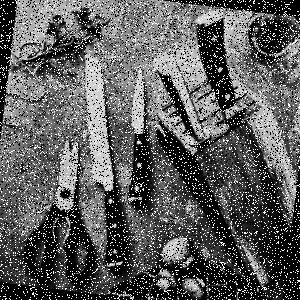knife: (81, 51, 135, 272), (128, 58, 155, 208)
